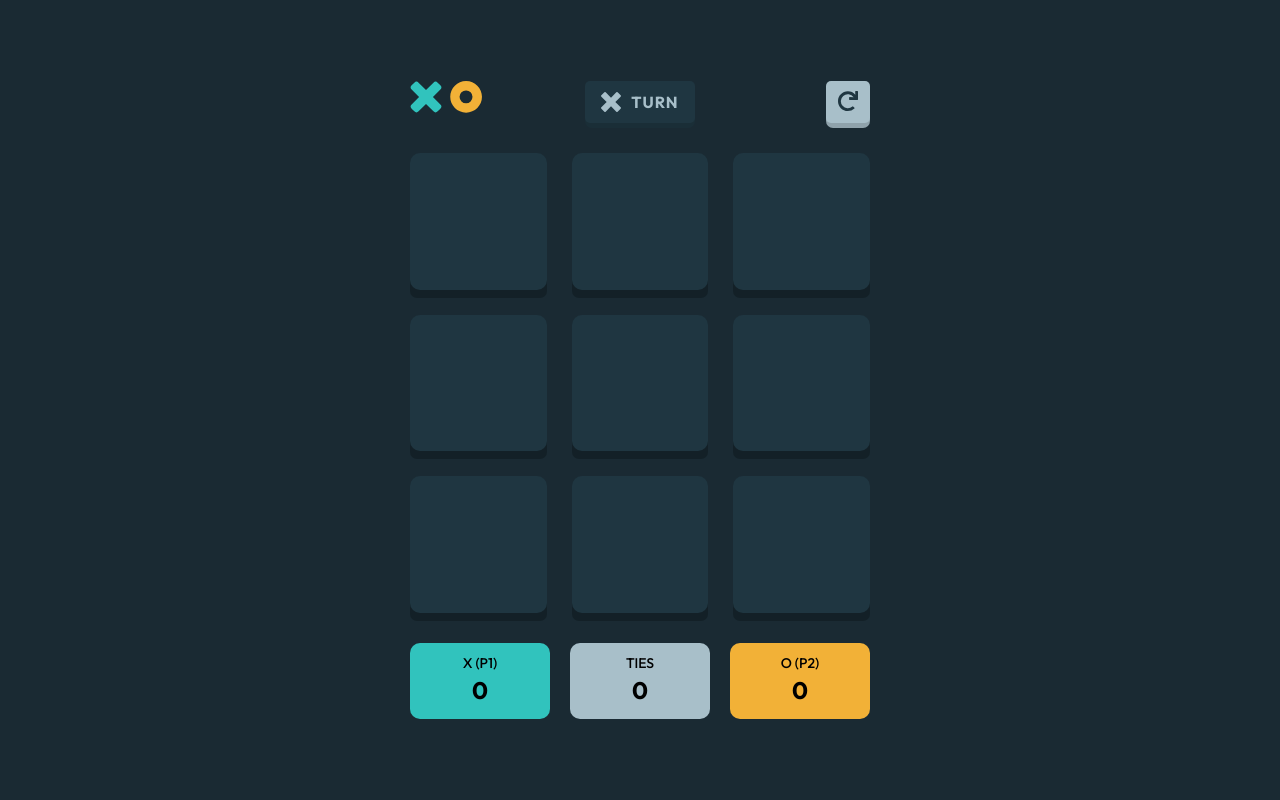
Scenario: Reset the game mid-match › with the modal open, click cancel to continue the current game
The width and height of the screenshot is (1280, 800).
Click the button with test id "resetGameButton" at (848, 102), box [826, 81, 870, 123]
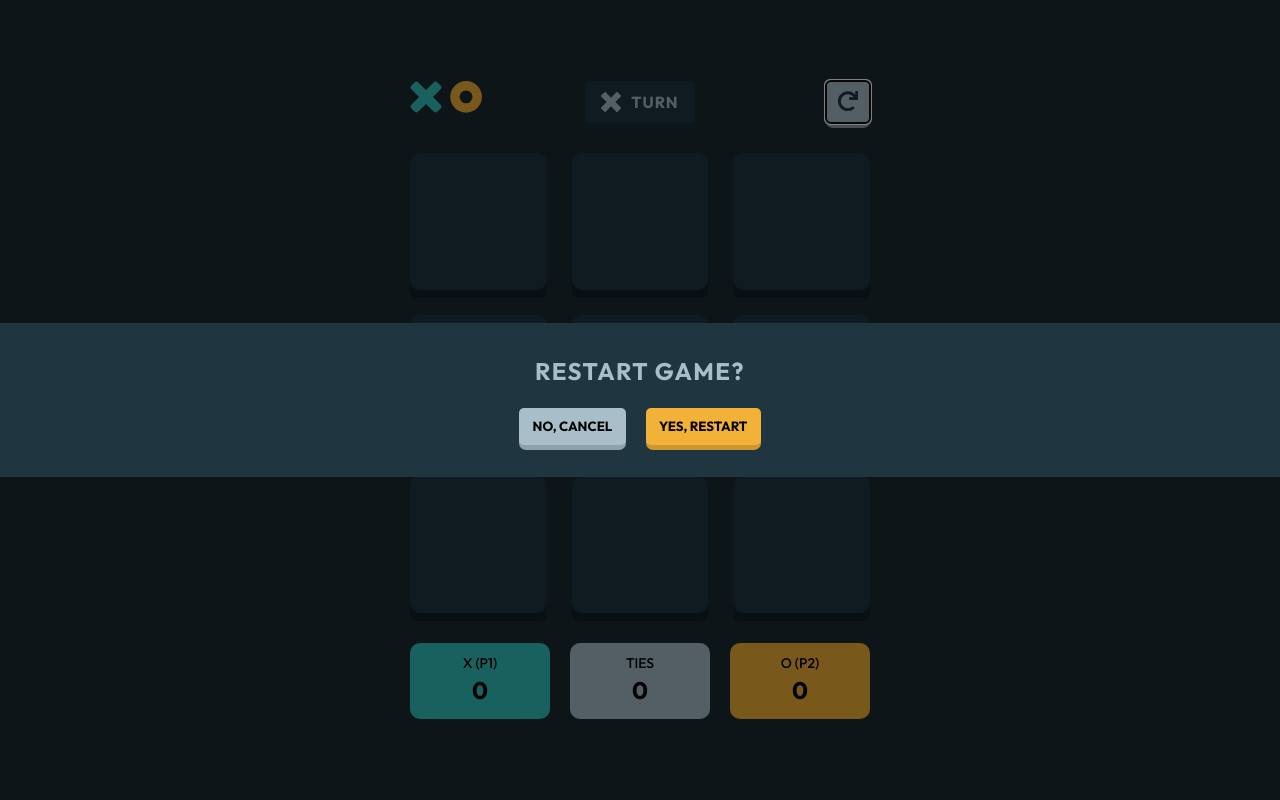
Click the button "no, cancel" at (572, 427), box [519, 408, 626, 445]
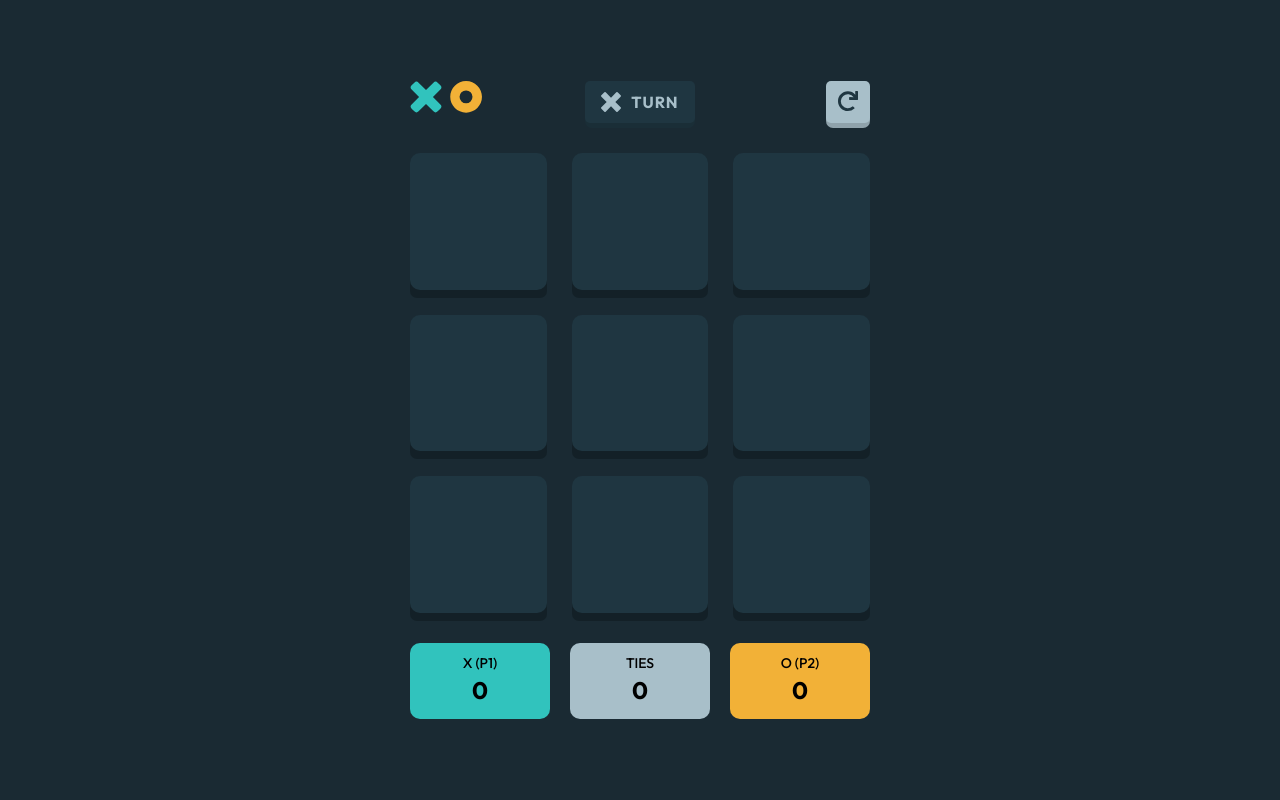
expect the element with test id "gameModal" is gone: met
